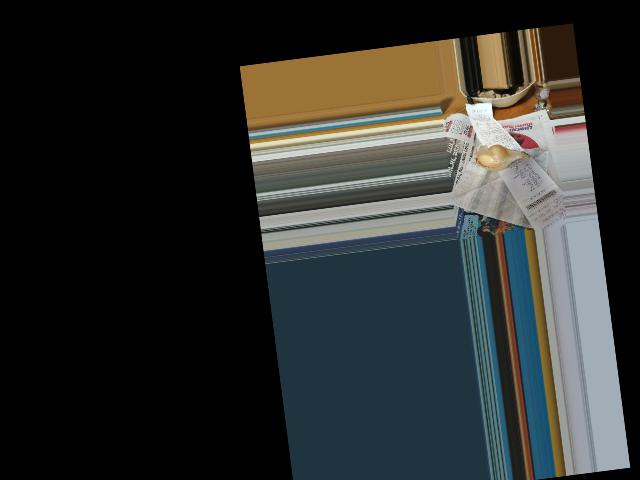onion: (475, 145, 521, 172)
